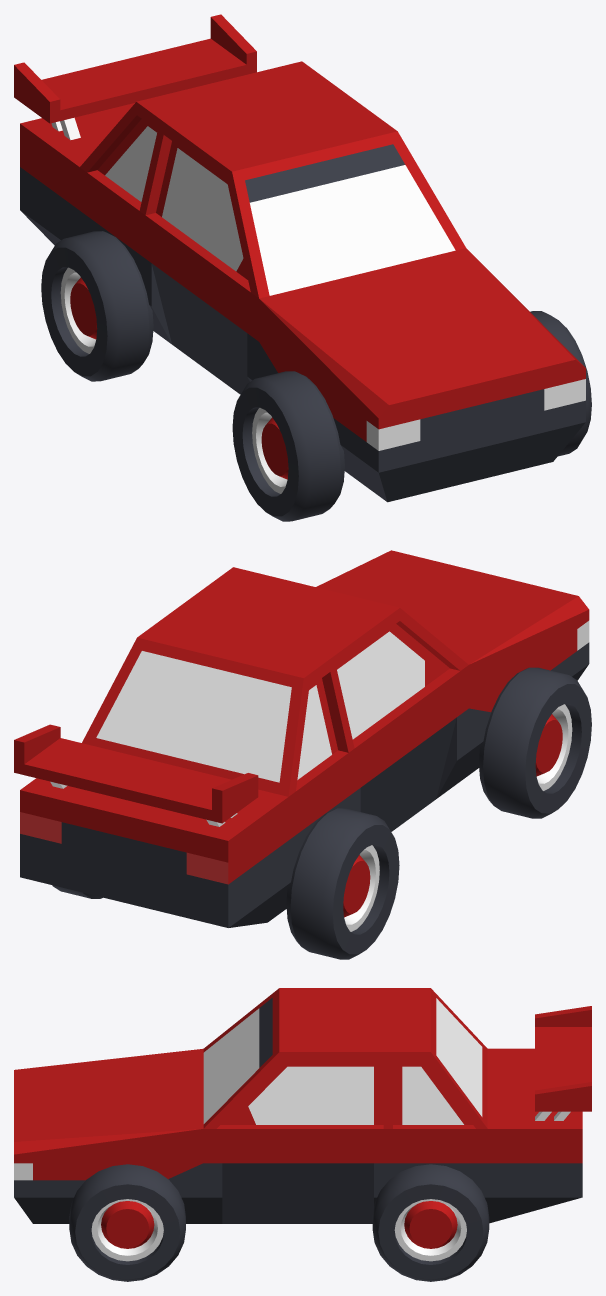
The model's file is Car2.fbx.
3 renders of one model, top to bottom at view 1: azimuth 30°, elevation 25°; view 2: azimuth 150°, elevation 25°; view 3: azimuth 270°, elevation 25°, orthographic. The views are drawn at different scales.
Parts seen in each view (by area): view 1: body_frontLarge, body_topStandard, wheel_classic (×3), body_edge, spoiler_fins, body_backSolid, body_topBackStandard; view 2: body_backSolid, body_topBackStandard, wheel_classic (×2), body_topStandard, body_frontLarge, body_edge, spoiler_fins; view 3: body_frontLarge, body_topStandard, wheel_classic (×2), body_edge, body_backSolid, body_topBackStandard, spoiler_fins.
Boxes of the visible parts, x1=… form: body_frontLarge: x1=259, y1=248, x2=585, y2=502; body_topStandard: x1=139, y1=79, x2=465, y2=298; wheel_classic (×3): x1=41, y1=231, x2=591, y2=521; body_edge: x1=139, y1=211, x2=258, y2=394; spoiler_fins: x1=14, y1=14, x2=256, y2=140; body_backSolid: x1=20, y1=103, x2=159, y2=335; body_topBackStandard: x1=80, y1=61, x2=325, y2=201; body_backSolid: x1=20, y1=750, x2=348, y2=927; body_topBackStandard: x1=82, y1=620, x2=337, y2=796; wheel_classic (×2): x1=286, y1=667, x2=591, y2=959; body_topStandard: x1=161, y1=567, x2=468, y2=752; body_frontLarge: x1=316, y1=550, x2=589, y2=789; body_edge: x1=348, y1=665, x2=468, y2=831; spoiler_fins: x1=14, y1=724, x2=258, y2=826; body_frontLarge: x1=14, y1=1048, x2=203, y2=1223; body_topStandard: x1=203, y1=988, x2=392, y2=1128; wheel_classic (×2): x1=69, y1=1164, x2=489, y2=1281; body_edge: x1=203, y1=1125, x2=392, y2=1223; body_backSolid: x1=393, y1=1048, x2=582, y2=1223; body_topBackStandard: x1=393, y1=988, x2=487, y2=1128; spoiler_fins: x1=535, y1=1006, x2=591, y2=1120.
Bounding box in the file's own units: 14.16 × 12.08 × 30.5.
